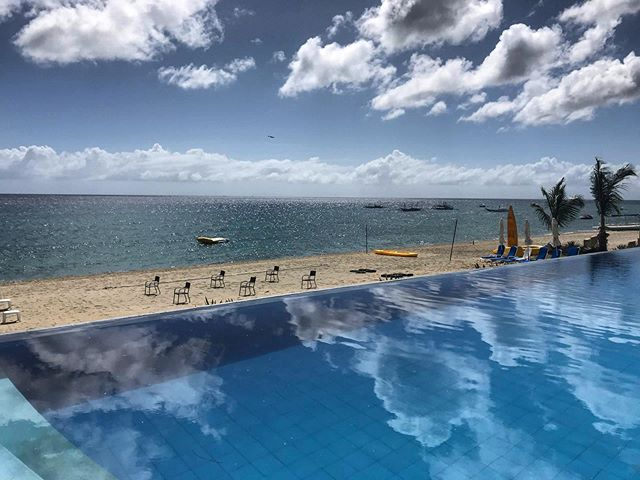pool: (1, 254, 636, 480)
sea: (1, 197, 627, 281)
sky: (8, 1, 640, 184)
tree: (582, 155, 640, 249), (529, 182, 588, 260)
